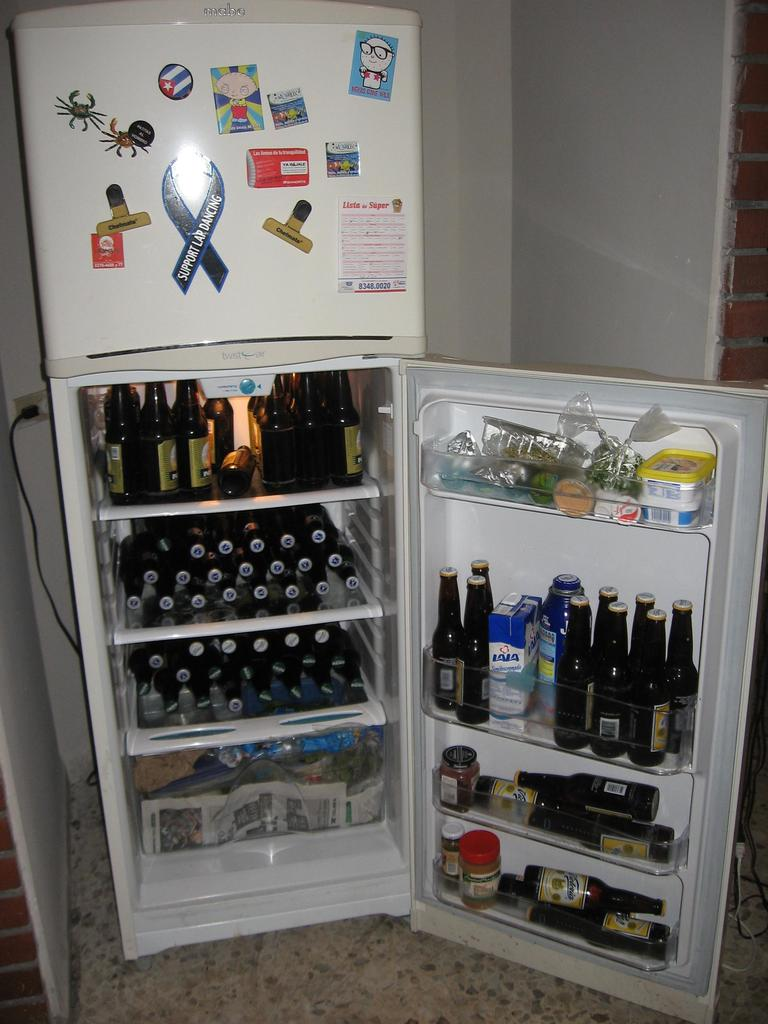handle: (55, 336, 418, 374)
refrigerator door: (419, 374, 739, 984), (35, 34, 418, 336)
